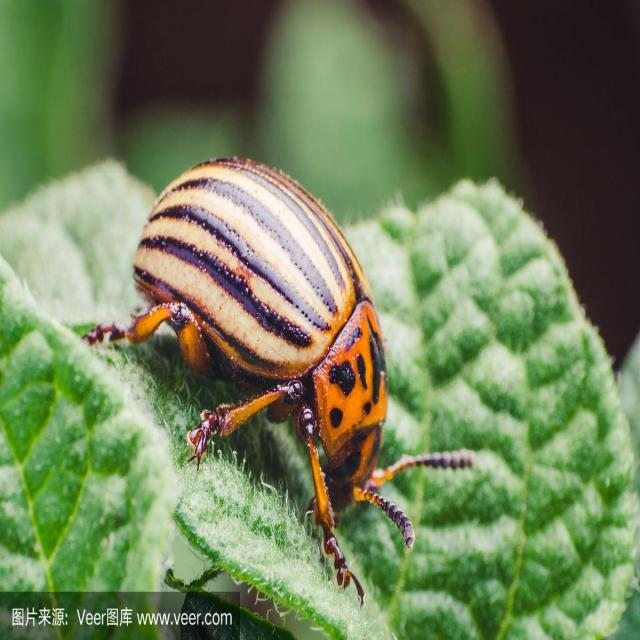ShuCaiHuaBanChong-Grown-: (121, 116, 374, 496)
